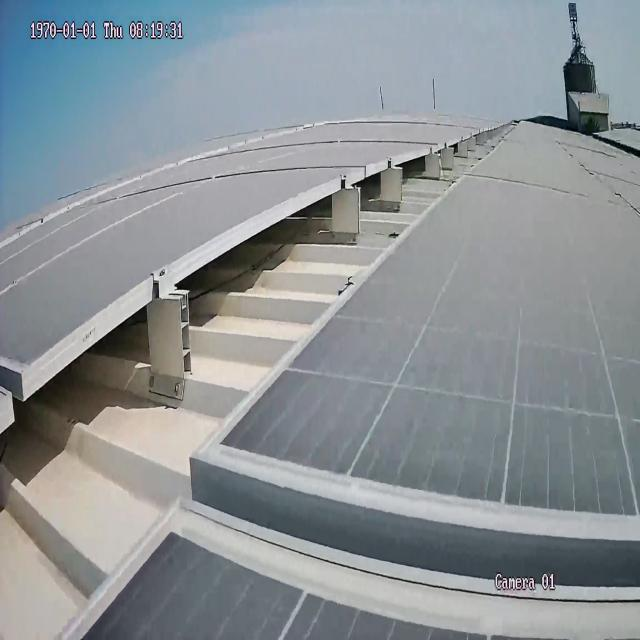interior panel: (184, 453, 640, 599)
outher panel: (4, 120, 518, 640)
